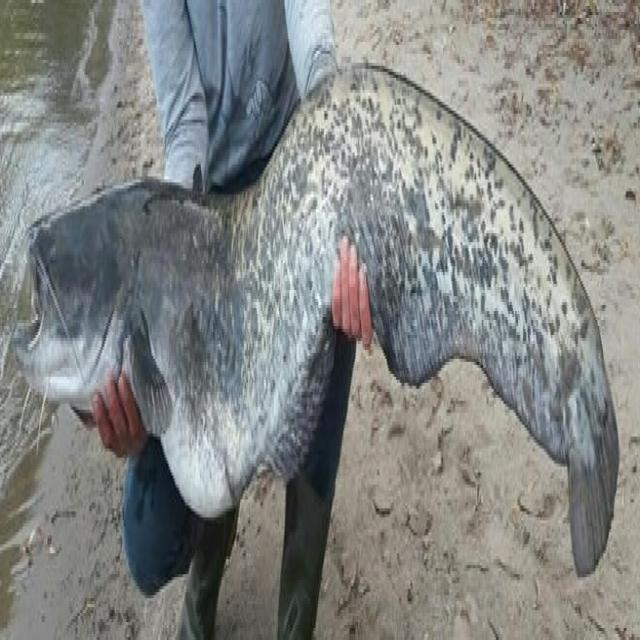Catfish: (18, 50, 636, 597)
